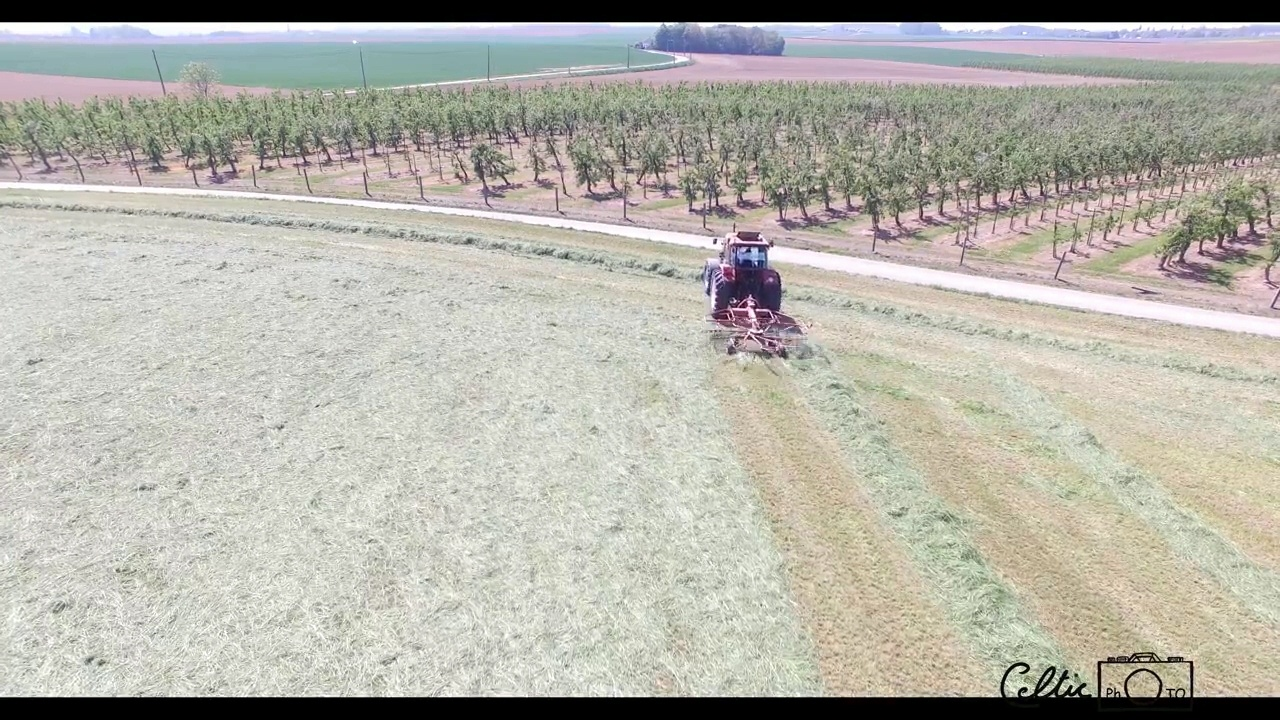traktor: (698, 223, 782, 314)
